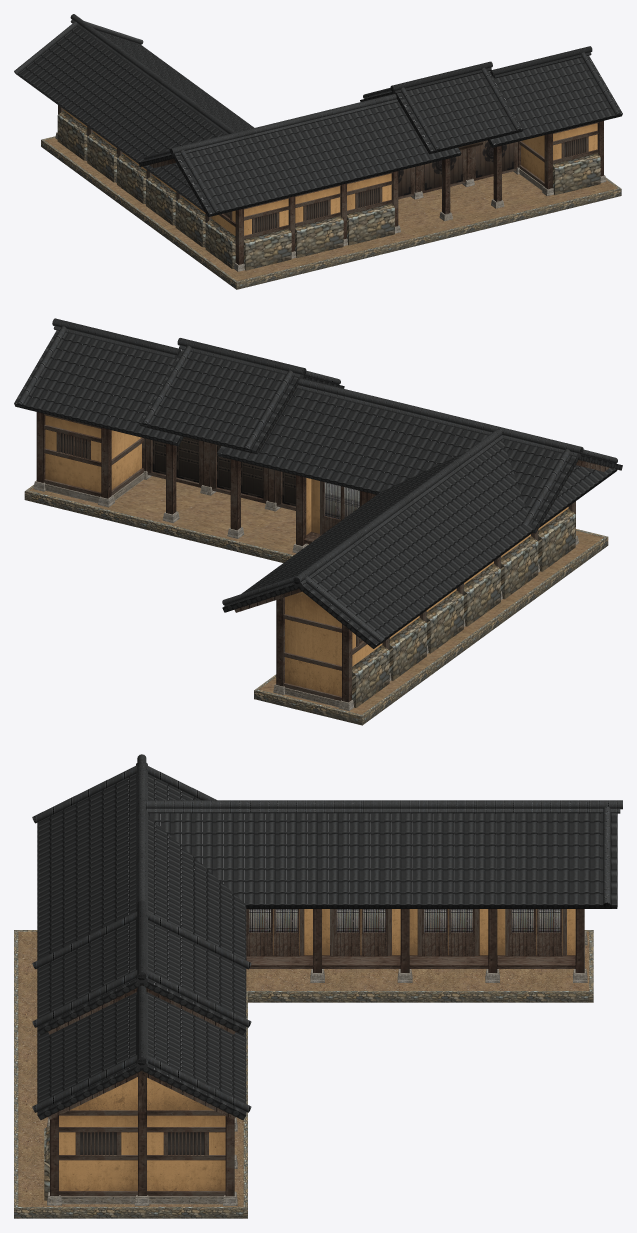
File: KoreanMansion_House_1.FBX
The picture shows the model from 3 angles, top to bottom: view 1: azimuth 30°, elevation 25°; view 2: azimuth 150°, elevation 25°; view 3: azimuth 270°, elevation 25°; orthographic projection. The views are drawn at different scales.
Visible parts, largest first — view 1: KoreanMansion_House_1; view 2: KoreanMansion_House_1; view 3: KoreanMansion_House_1.
Part boxes in pixels (left/top/right/bottom): KoreanMansion_House_1: left=14, top=14, right=622, bottom=289; KoreanMansion_House_1: left=14, top=318, right=622, bottom=725; KoreanMansion_House_1: left=14, top=754, right=622, bottom=1218.
Bounding box in the file's own units: 1736 × 490 × 1474.
